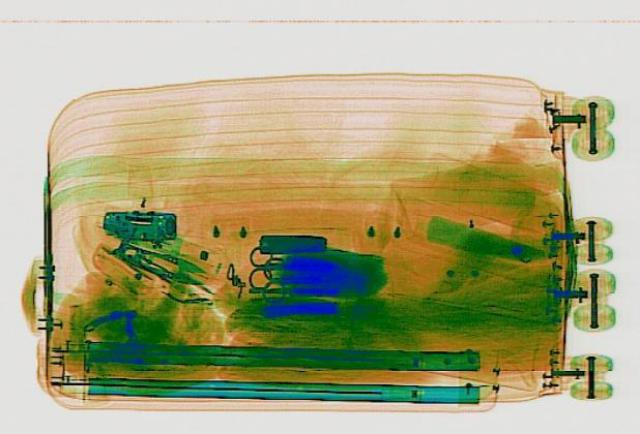Scissors: (260, 255, 320, 300), (245, 243, 299, 288)
